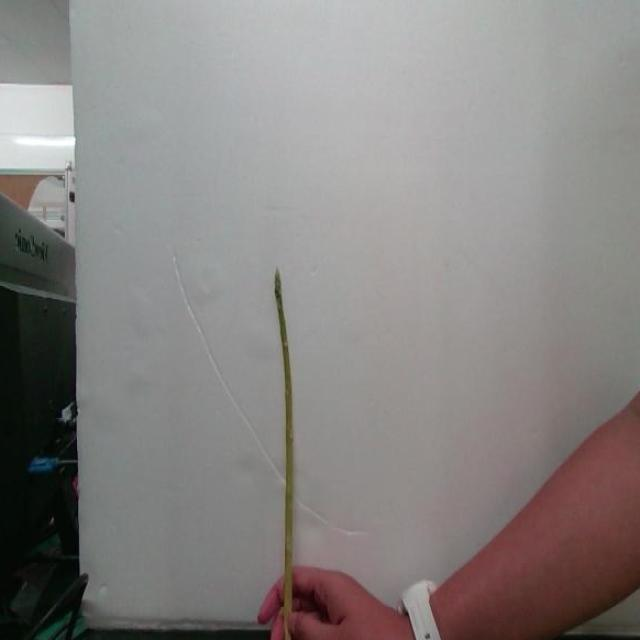aspargus: (272, 272, 297, 640)
